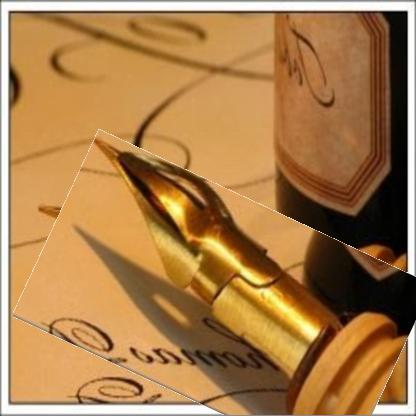Pen: (24, 163, 415, 416)
